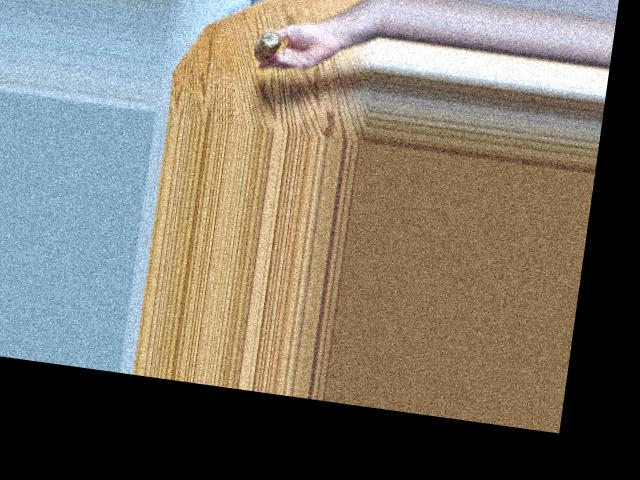sweet_potato: (248, 22, 291, 65)
